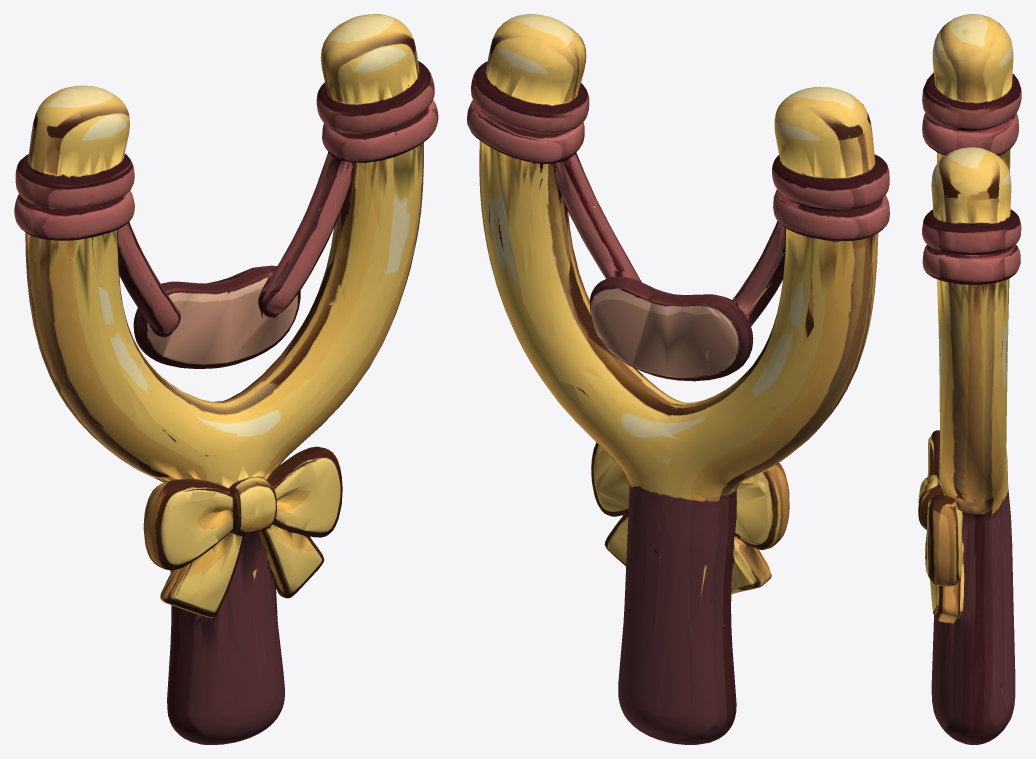
Rendered from butter-weapon.fbx.
The picture shows the model from 3 angles, left to right: view 1: azimuth 30°, elevation 25°; view 2: azimuth 150°, elevation 25°; view 3: azimuth 270°, elevation 25°; orthographic projection. The views are drawn at different scales.
Parts seen in each view (by area): view 1: butter_weapon; view 2: butter_weapon; view 3: butter_weapon.
Boxes of the visible parts, x1,y1,x2,y2 form: butter_weapon: (14,14,438,744); butter_weapon: (467,14,889,744); butter_weapon: (918,14,1021,744).
Size of the model in its own units: 30.05 by 48 by 6.95.
1 material, 1 textured.
